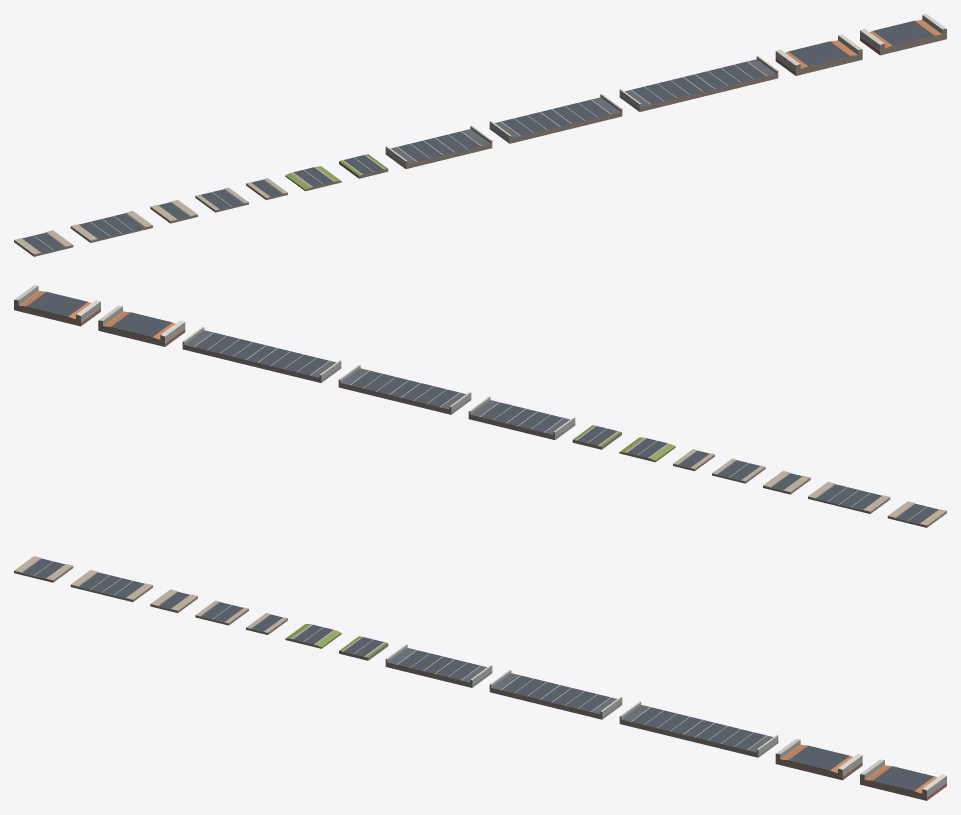
File: rkit_r3_profiles.glb
The picture shows the model from 3 angles, top to bottom: view 1: azimuth 30°, elevation 25°; view 2: azimuth 150°, elevation 25°; view 3: azimuth 330°, elevation 25°; orthographic projection.
Parts seen in each view (by area): view 1: RKIT_route_profile_HIGHWAY_4_4, RKIT_route_profile_HIGHWAY_3_3, RKIT_route_profile_HIGHWAY_2_2, RKIT_route_profile_RACE, RKIT_route_profile_COSMIC, RKIT_route_profile_TOWN_2_2, RKIT_route_profile_TOWN_1_1, RKIT_route_profile_COUNTRY_1_1, RKIT_route_profile_DRIVING_SCHOOL_1_1, RKIT_route_profile_MOUNTAIN_1_1, RKIT_route_profile_TOWN_0_1, RKIT_route_profile_DRIVING_SCHOOL_0_1; view 2: RKIT_route_profile_HIGHWAY_4_4, RKIT_route_profile_HIGHWAY_3_3, RKIT_route_profile_HIGHWAY_2_2, RKIT_route_profile_RACE, RKIT_route_profile_COSMIC, RKIT_route_profile_TOWN_2_2, RKIT_route_profile_TOWN_1_1, RKIT_route_profile_COUNTRY_1_1, RKIT_route_profile_DRIVING_SCHOOL_1_1, RKIT_route_profile_MOUNTAIN_1_1, RKIT_route_profile_TOWN_0_1, RKIT_route_profile_DRIVING_SCHOOL_0_1; view 3: RKIT_route_profile_HIGHWAY_4_4, RKIT_route_profile_HIGHWAY_3_3, RKIT_route_profile_HIGHWAY_2_2, RKIT_route_profile_RACE, RKIT_route_profile_COSMIC, RKIT_route_profile_TOWN_2_2, RKIT_route_profile_TOWN_1_1, RKIT_route_profile_COUNTRY_1_1, RKIT_route_profile_DRIVING_SCHOOL_1_1, RKIT_route_profile_MOUNTAIN_1_1, RKIT_route_profile_TOWN_0_1, RKIT_route_profile_DRIVING_SCHOOL_0_1.
Boxes of the visible parts, <box> form: RKIT_route_profile_HIGHWAY_4_4: <box>619,56,778,111</box>; RKIT_route_profile_HIGHWAY_3_3: <box>489,94,622,143</box>; RKIT_route_profile_HIGHWAY_2_2: <box>385,125,492,168</box>; RKIT_route_profile_RACE: <box>775,34,862,75</box>; RKIT_route_profile_COSMIC: <box>860,14,946,55</box>; RKIT_route_profile_TOWN_2_2: <box>70,211,152,242</box>; RKIT_route_profile_TOWN_1_1: <box>14,230,73,256</box>; RKIT_route_profile_COUNTRY_1_1: <box>285,166,341,191</box>; RKIT_route_profile_DRIVING_SCHOOL_1_1: <box>195,187,248,212</box>; RKIT_route_profile_MOUNTAIN_1_1: <box>339,154,388,178</box>; RKIT_route_profile_TOWN_0_1: <box>150,200,197,223</box>; RKIT_route_profile_DRIVING_SCHOOL_0_1: <box>246,178,287,200</box>; RKIT_route_profile_HIGHWAY_4_4: <box>182,327,341,382</box>; RKIT_route_profile_HIGHWAY_3_3: <box>338,365,471,414</box>; RKIT_route_profile_HIGHWAY_2_2: <box>468,396,575,439</box>; RKIT_route_profile_RACE: <box>98,305,185,346</box>; RKIT_route_profile_COSMIC: <box>14,285,100,326</box>; RKIT_route_profile_TOWN_2_2: <box>808,482,890,513</box>; RKIT_route_profile_TOWN_1_1: <box>887,501,946,527</box>; RKIT_route_profile_COUNTRY_1_1: <box>619,437,675,462</box>; RKIT_route_profile_DRIVING_SCHOOL_1_1: <box>712,458,765,483</box>; RKIT_route_profile_MOUNTAIN_1_1: <box>572,425,621,449</box>; RKIT_route_profile_TOWN_0_1: <box>763,471,810,494</box>; RKIT_route_profile_DRIVING_SCHOOL_0_1: <box>673,449,714,471</box>; RKIT_route_profile_HIGHWAY_4_4: <box>619,701,778,757</box>; RKIT_route_profile_HIGHWAY_3_3: <box>489,670,622,719</box>; RKIT_route_profile_HIGHWAY_2_2: <box>385,644,492,687</box>; RKIT_route_profile_RACE: <box>775,739,862,780</box>; RKIT_route_profile_COSMIC: <box>860,759,946,800</box>; RKIT_route_profile_TOWN_2_2: <box>70,570,152,601</box>; RKIT_route_profile_TOWN_1_1: <box>14,556,73,582</box>; RKIT_route_profile_COUNTRY_1_1: <box>285,624,341,648</box>; RKIT_route_profile_DRIVING_SCHOOL_1_1: <box>195,600,248,625</box>; RKIT_route_profile_MOUNTAIN_1_1: <box>339,636,388,660</box>; RKIT_route_profile_TOWN_0_1: <box>150,589,197,612</box>; RKIT_route_profile_DRIVING_SCHOOL_0_1: <box>246,613,287,634</box>.
Bounding box in the file's own units: 315 × 3.6 × 12.
